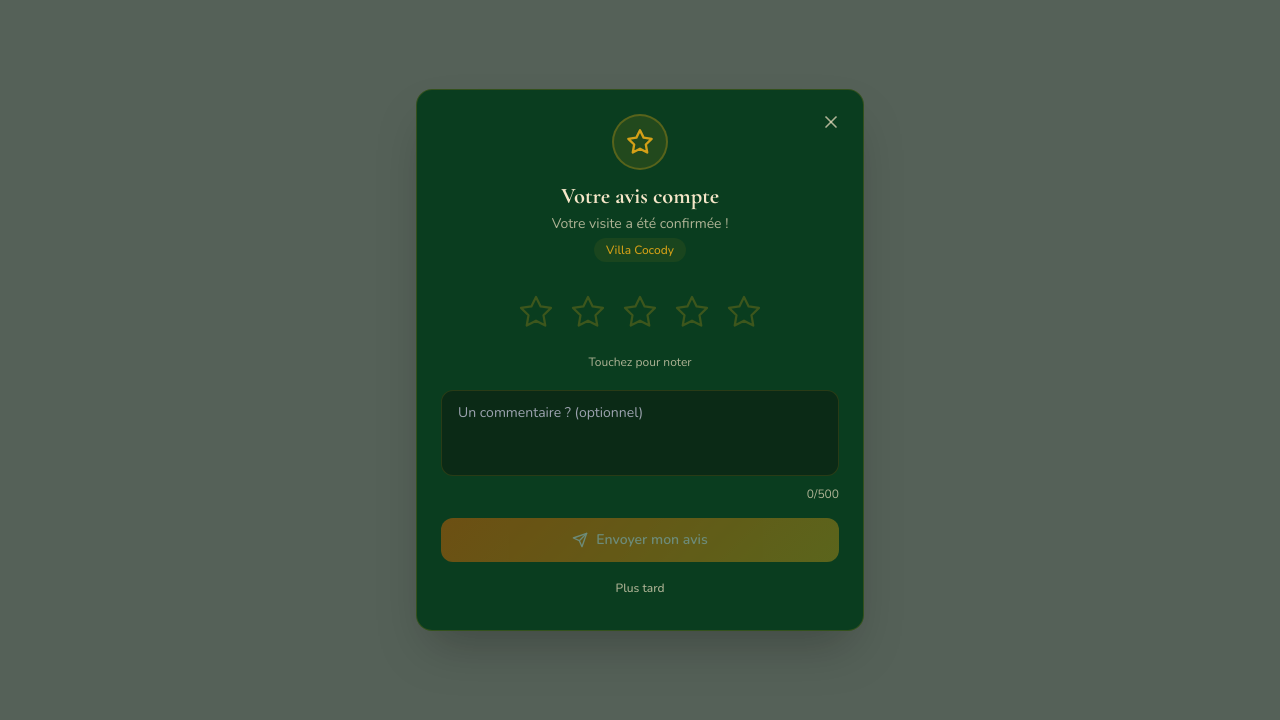
SatisfactionModal › affiche le label dynamique au survol
Hover over the button named "étoile": point(744, 312) [722,290,766,334]
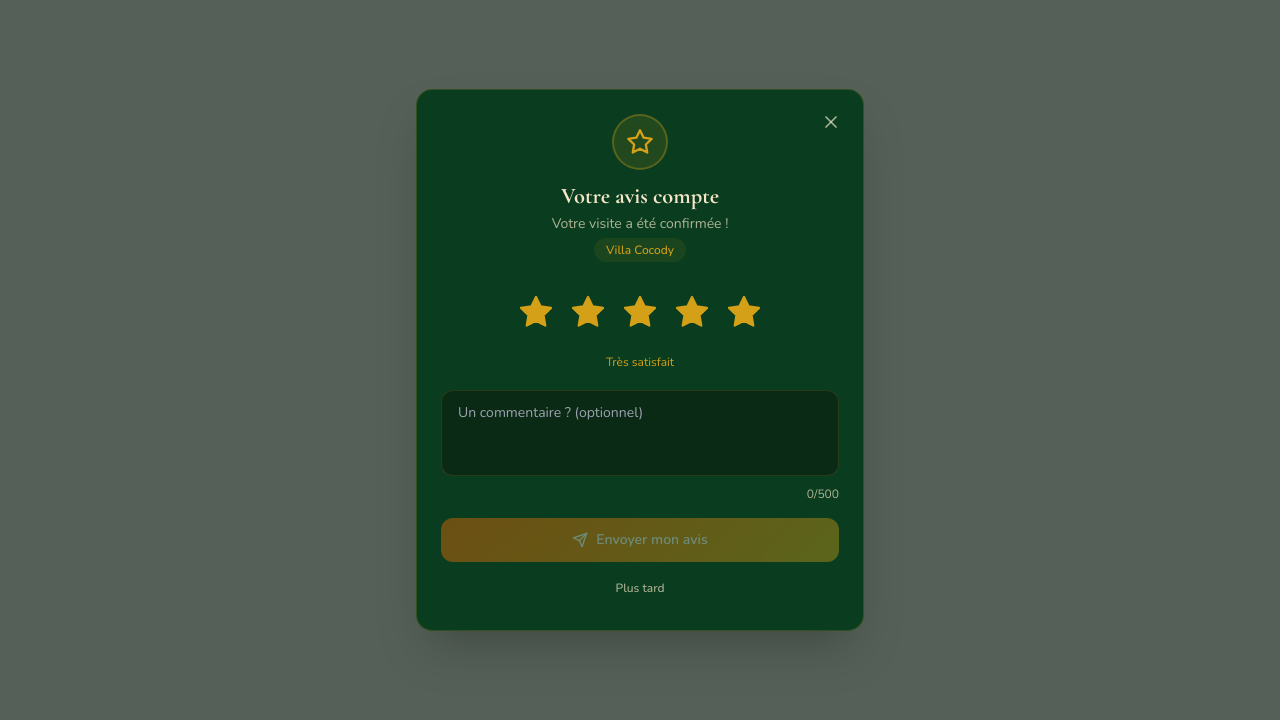
Expected: the text "Très satisfait" is shown, [606,354,674,370]
